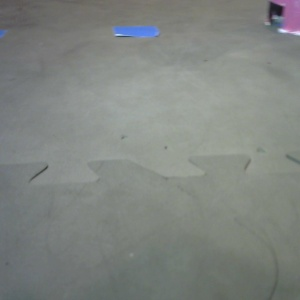right: (229, 1, 300, 128)
